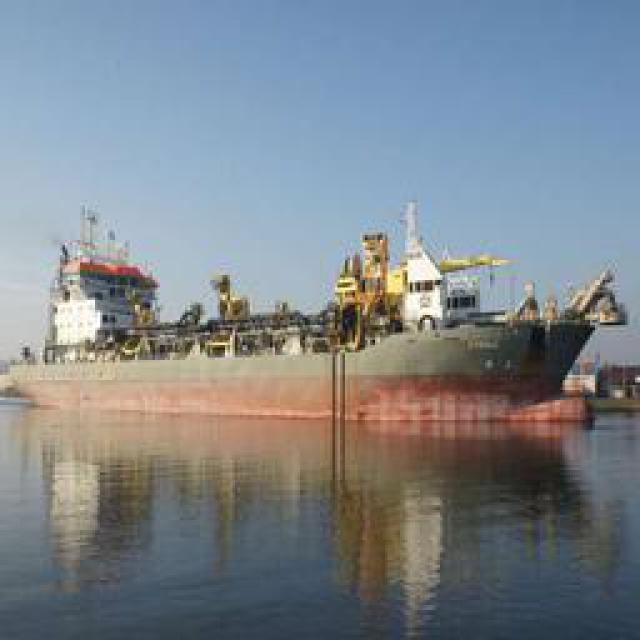Ship: (15, 203, 633, 438)
